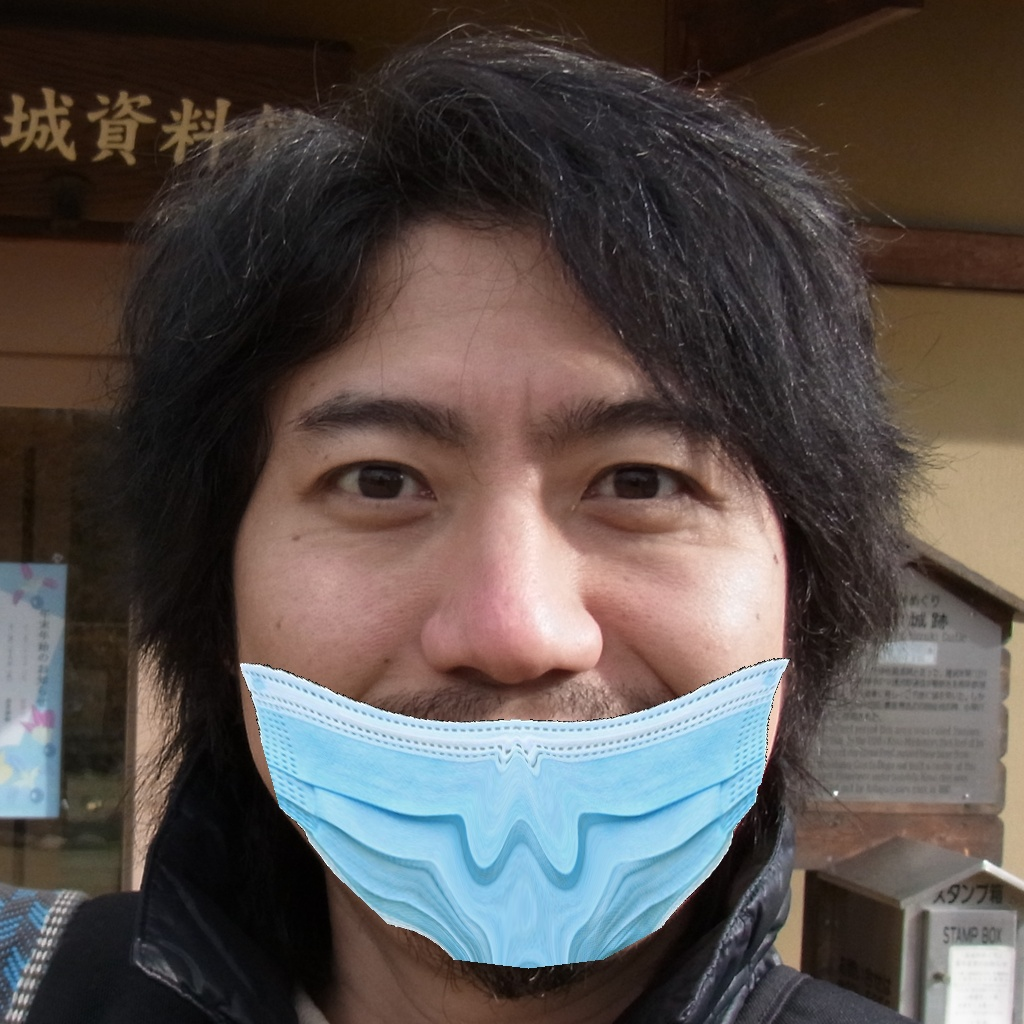mascarilla_mal_puesta: (184, 393, 829, 963)
